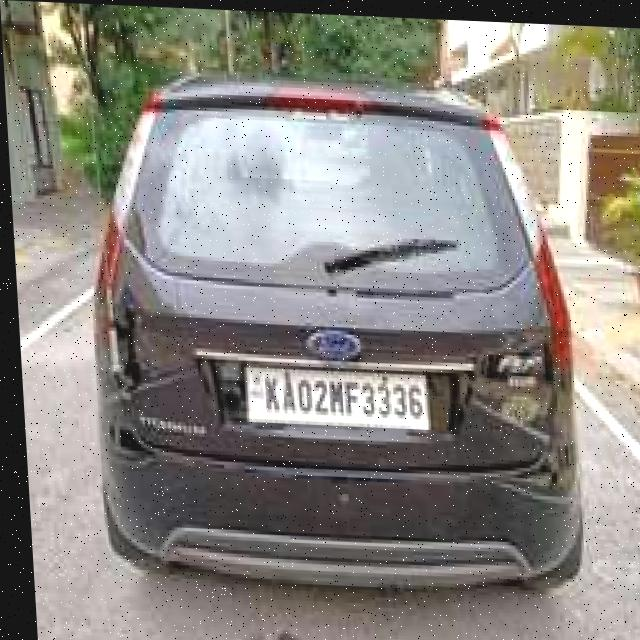plate: (238, 360, 426, 431)
